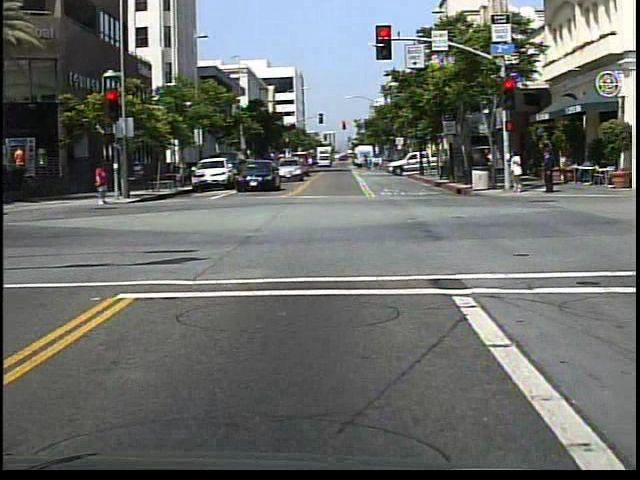person: (538, 147, 558, 195), (508, 148, 525, 197), (96, 161, 114, 207)
